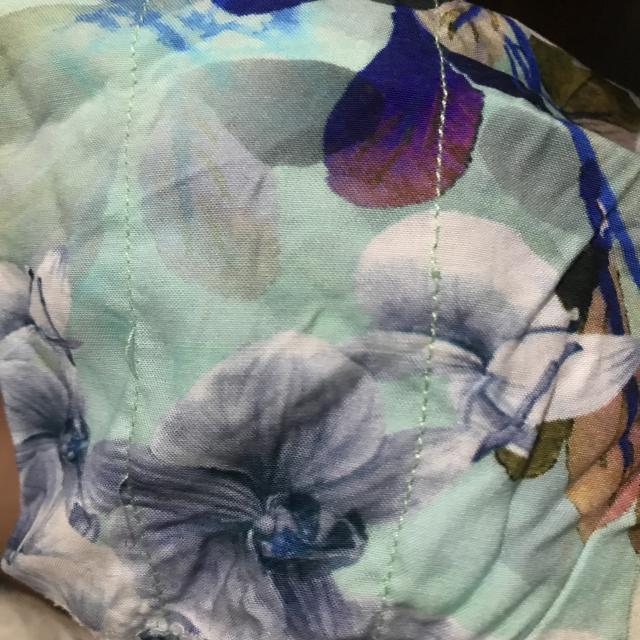good: (108, 211, 147, 281)
skip: (111, 314, 154, 394)
